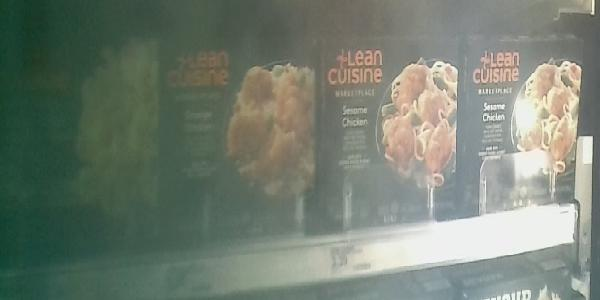pizza1: (155, 41, 321, 236), (326, 40, 456, 226), (459, 34, 583, 213)
